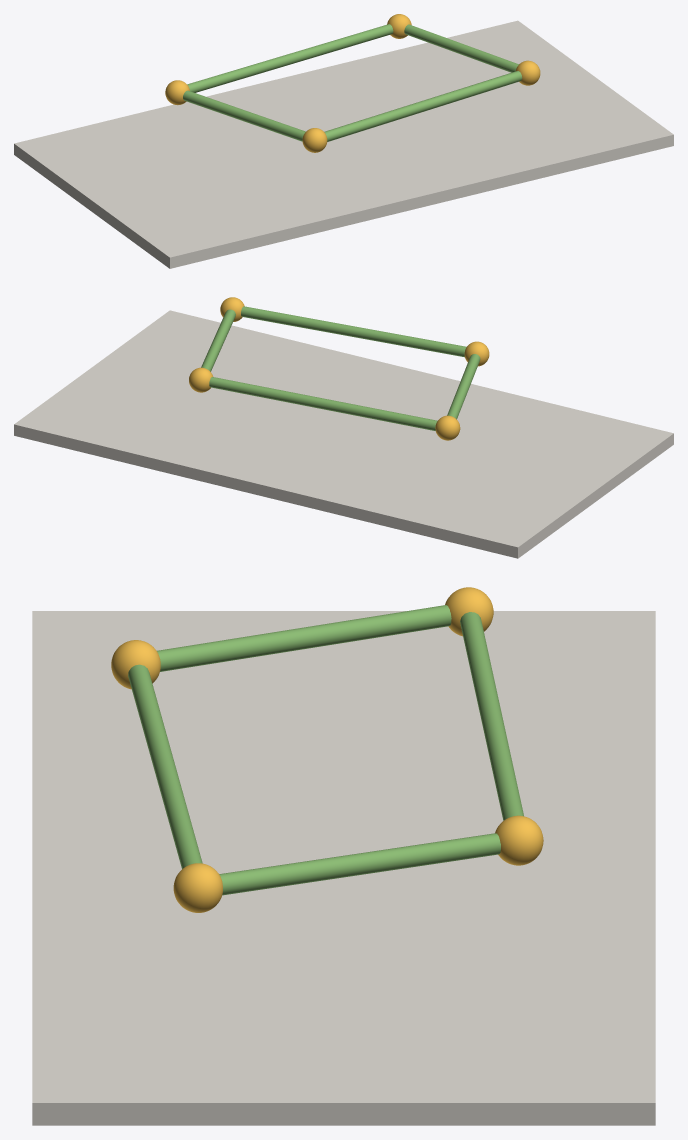
File: math-geometry-quadrilateral.glb
The picture shows the model from 3 angles, top to bottom: view 1: azimuth 30°, elevation 25°; view 2: azimuth 150°, elevation 25°; view 3: azimuth 270°, elevation 25°; orthographic projection. The views are drawn at different scales.
Parts seen in each view (by area): view 1: manipulative-base, quad-side-1, quad-side-3, quad-side-4, quad-side-2, quad-corner-4, quad-corner-3, quad-corner-1, quad-corner-2; view 2: manipulative-base, quad-side-1, quad-side-3, quad-side-4, quad-side-2, quad-corner-1, quad-corner-2; view 3: manipulative-base, quad-side-4, quad-side-2, quad-side-1, quad-side-3, quad-corner-3, quad-corner-2, quad-corner-4, quad-corner-1.
Boxes of the visible parts, box(x1,y1,x2,y2) form: manipulative-base: box(14, 20, 673, 268); quad-side-1: box(187, 24, 393, 92); quad-side-3: box(324, 71, 522, 141); quad-side-4: box(183, 90, 305, 141); quad-side-2: box(404, 24, 518, 72); quad-corner-4: box(302, 128, 327, 152); quad-corner-3: box(516, 60, 540, 85); quad-corner-1: box(165, 80, 189, 105); quad-corner-2: box(387, 14, 411, 38); manipulative-base: box(14, 310, 673, 558); quad-side-1: box(209, 377, 437, 430); quad-side-3: box(241, 306, 466, 357); quad-side-4: box(447, 354, 480, 419); quad-side-2: box(201, 309, 235, 371); quad-corner-1: box(435, 415, 460, 440); quad-corner-2: box(189, 367, 213, 392); manipulative-base: box(32, 611, 655, 1125); quad-side-4: box(157, 605, 451, 671); quad-side-2: box(219, 833, 500, 895); quad-side-1: box(460, 612, 523, 820); quad-side-3: box(128, 664, 202, 868); quad-corner-3: box(173, 863, 222, 912); quad-corner-2: box(495, 815, 543, 865); quad-corner-4: box(111, 640, 160, 689); quad-corner-1: box(445, 587, 493, 636).
Size of what is drawn, in the model's own units: 2.8 by 0.42 by 1.5.
